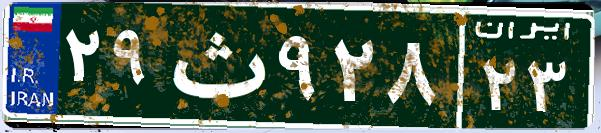2: (330, 28, 385, 110), (57, 26, 110, 107), (475, 38, 525, 113)
3: (525, 38, 570, 115)
8: (385, 28, 445, 110)
9: (273, 28, 330, 110), (110, 28, 158, 105)
ث: (158, 15, 273, 115)
